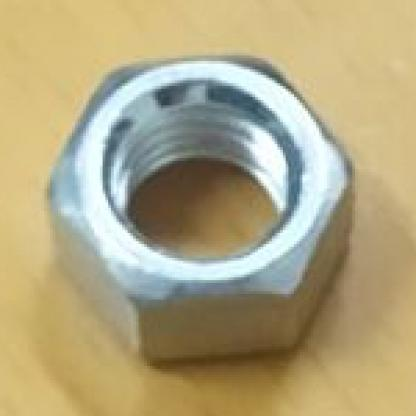FOD: (25, 36, 380, 377)
